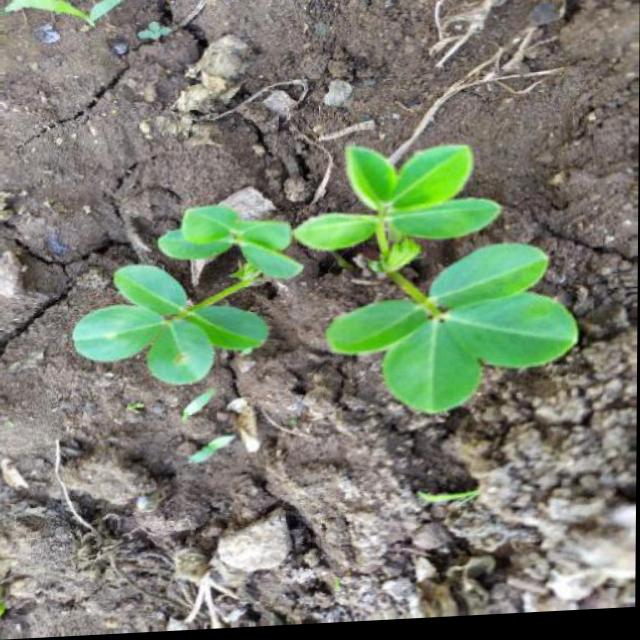weed: (70, 144, 588, 440)
